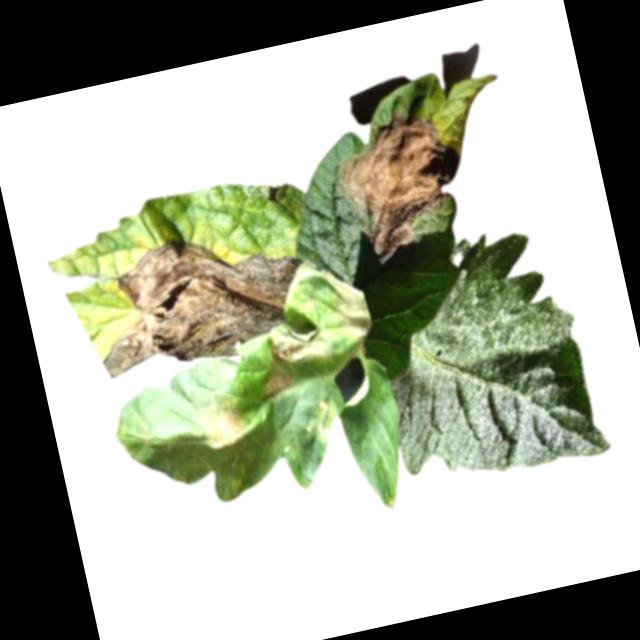Late_blight: (77, 212, 318, 384), (322, 95, 480, 270), (322, 261, 375, 349), (263, 319, 334, 375), (192, 393, 250, 455), (302, 395, 348, 443), (257, 363, 296, 404)
